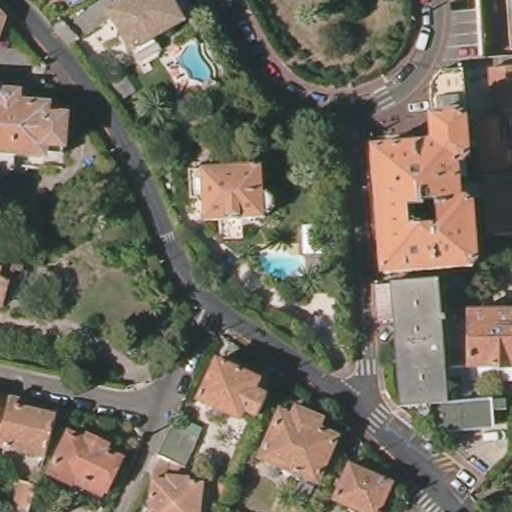pool: (252, 244, 312, 281), (175, 40, 214, 87)
